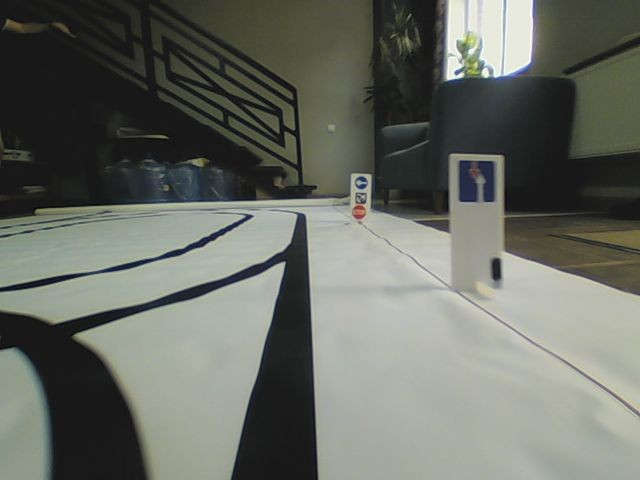priority_movement: (457, 160, 495, 203)
